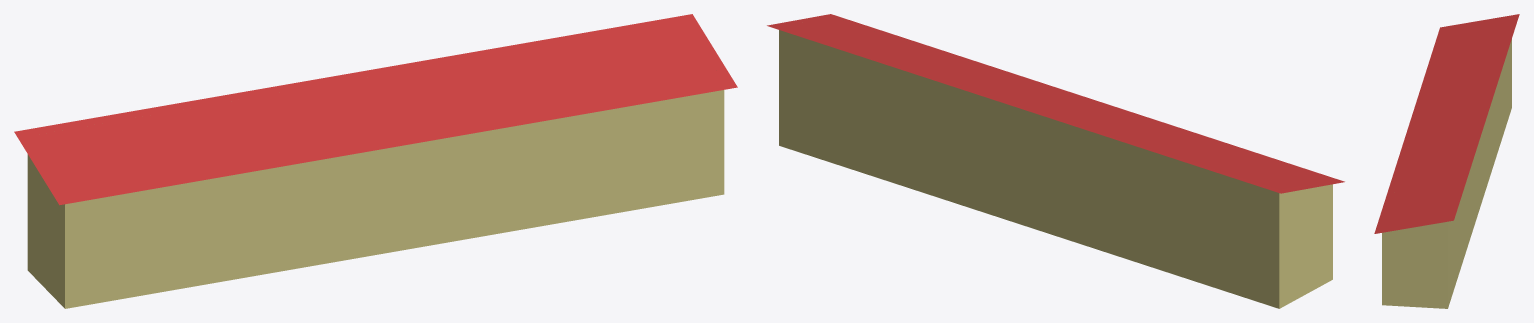
3 views of the same model, side by side, from view 1: azimuth 30°, elevation 25°; view 2: azimuth 150°, elevation 25°; view 3: azimuth 270°, elevation 25° (orthographic). The views are drawn at different scales.
Bounding box in the file's own units: 35.79 × 10.42 × 7.24.
